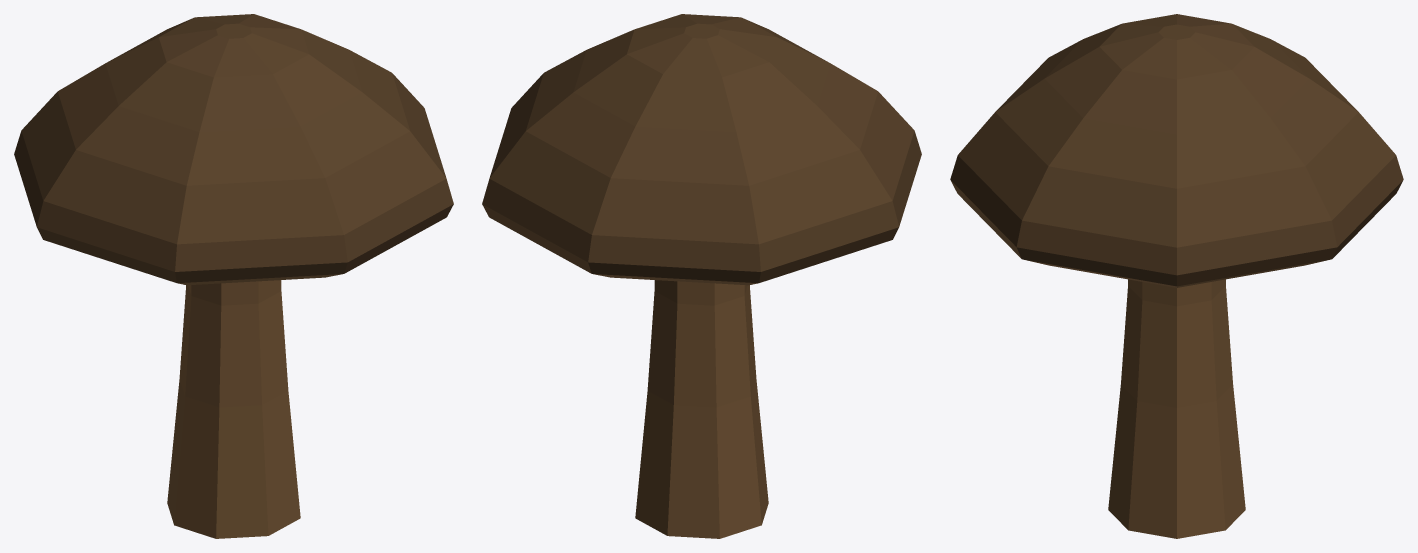
File: StraightMushroom.fbx
The picture shows the model from 3 angles, left to right: view 1: azimuth 30°, elevation 25°; view 2: azimuth 150°, elevation 25°; view 3: azimuth 270°, elevation 25°; orthographic projection.
Parts seen in each view (by area): view 1: StraightMushroom; view 2: StraightMushroom; view 3: StraightMushroom.
Boxes of the visible parts, <box> form: StraightMushroom: <box>14,14,453,538</box>; StraightMushroom: <box>482,14,921,538</box>; StraightMushroom: <box>950,14,1403,538</box>.
Bounding box in the file's own units: 530 × 616 × 530.
